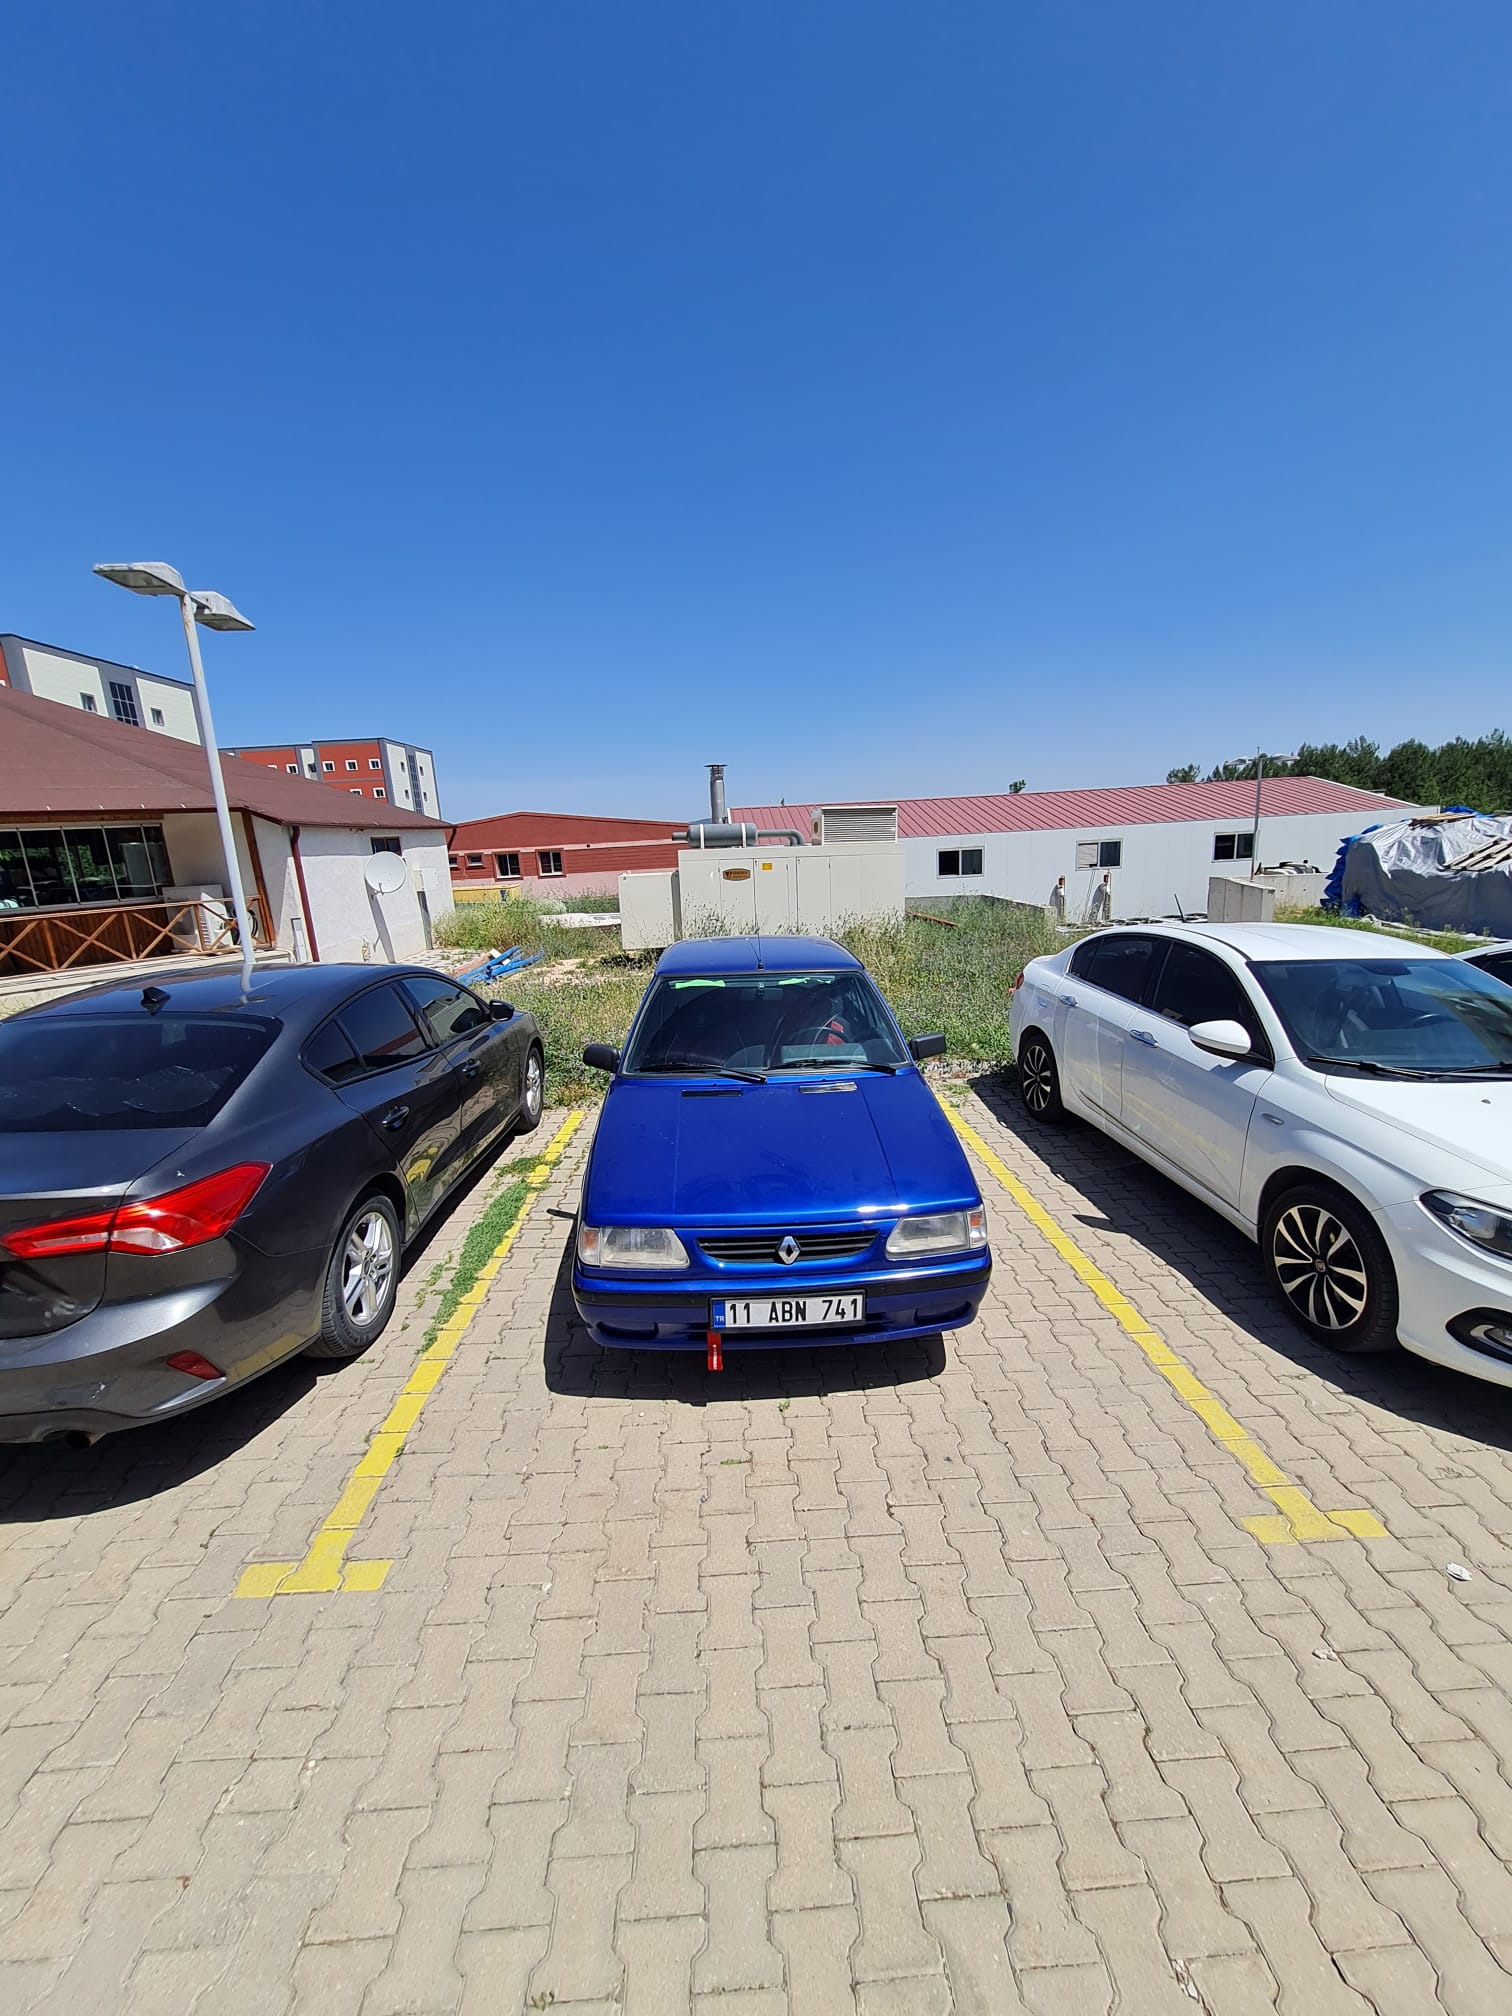bos: (324, 912, 1250, 1635)
